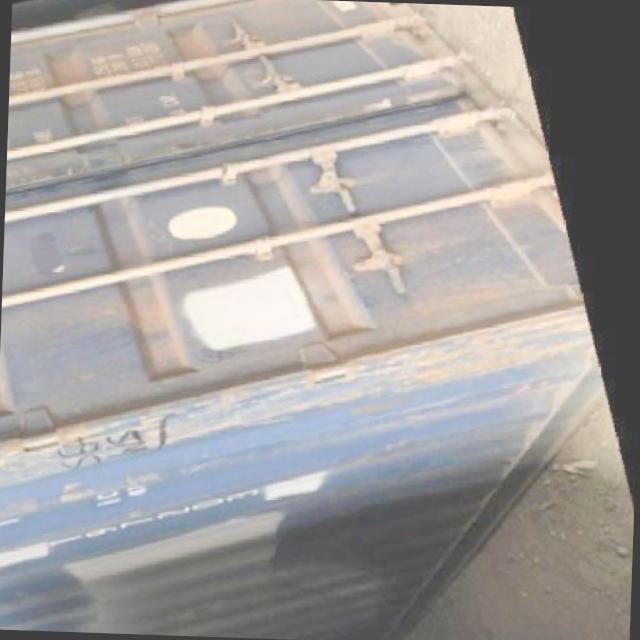rust: (396, 321, 590, 402), (276, 239, 374, 350), (108, 278, 195, 390), (28, 414, 172, 470), (332, 437, 430, 469)
